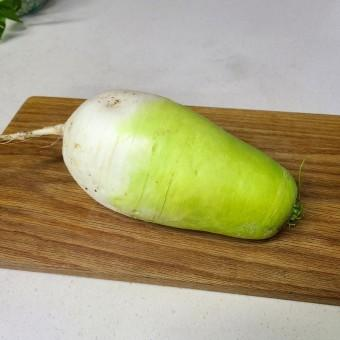radish: (31, 43, 163, 129)
